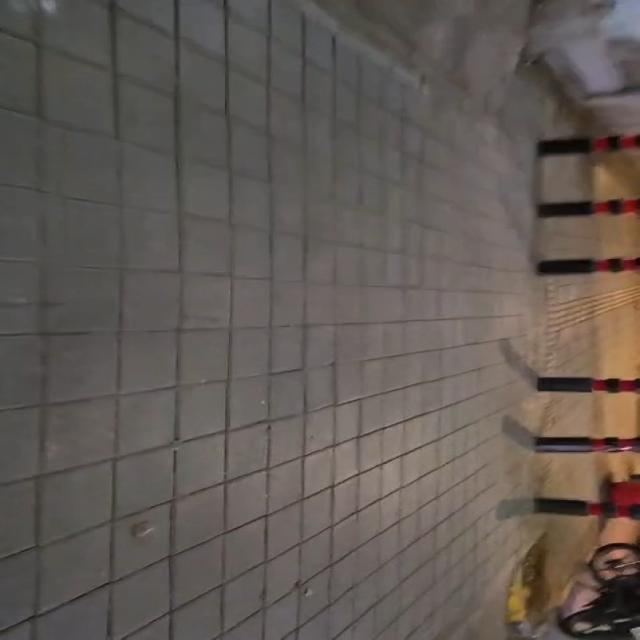obstacle: (533, 476, 639, 520), (535, 499, 639, 520), (537, 135, 639, 156), (539, 199, 639, 218), (535, 437, 639, 453), (537, 258, 639, 274), (537, 377, 639, 393)
